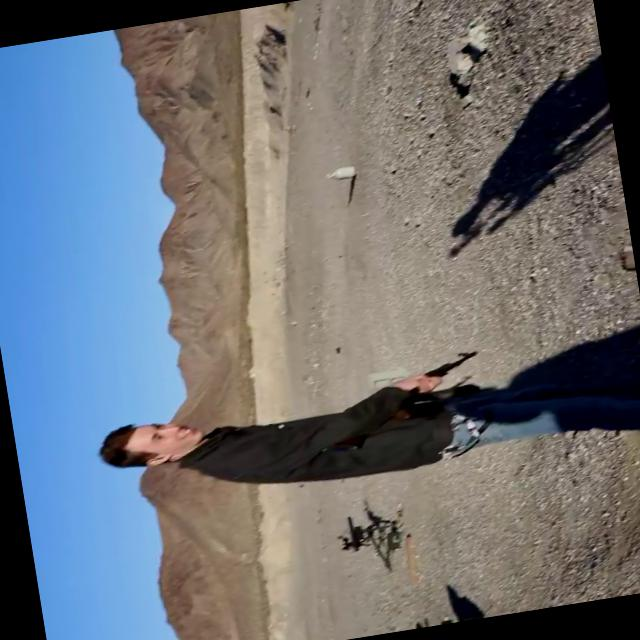long weapon: (308, 339, 504, 457)
